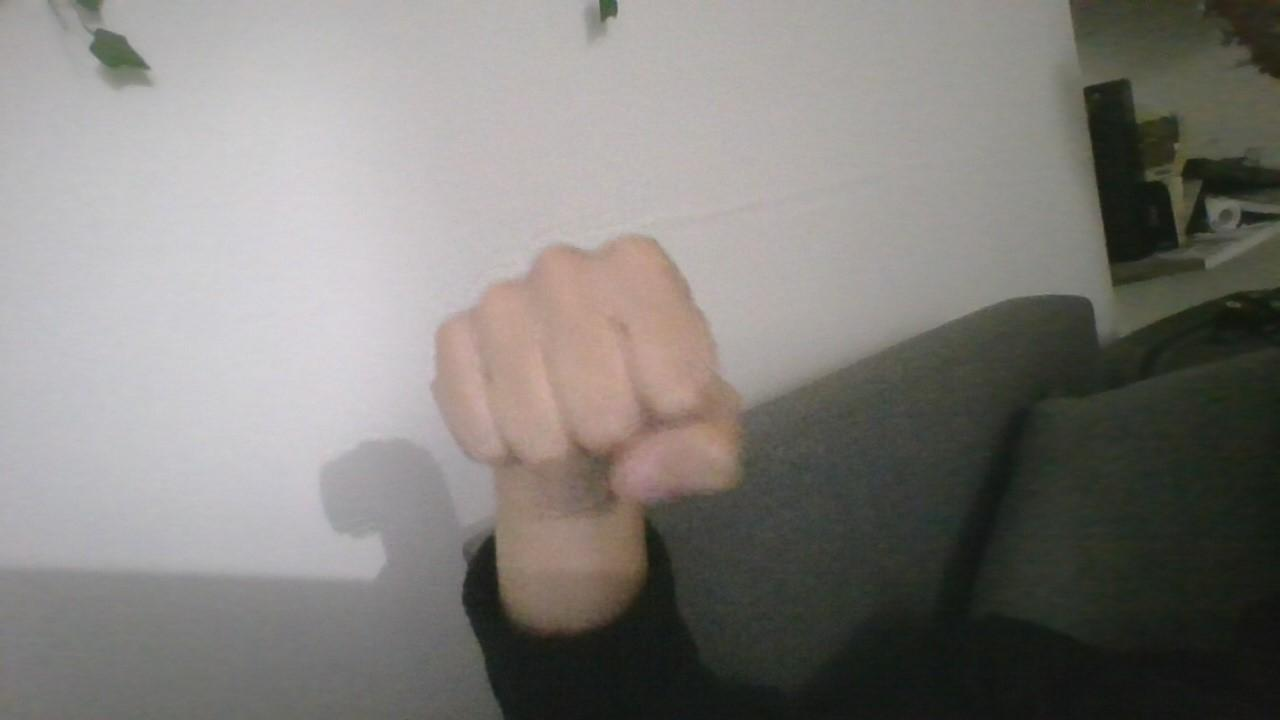stop: (392, 192, 776, 536)
